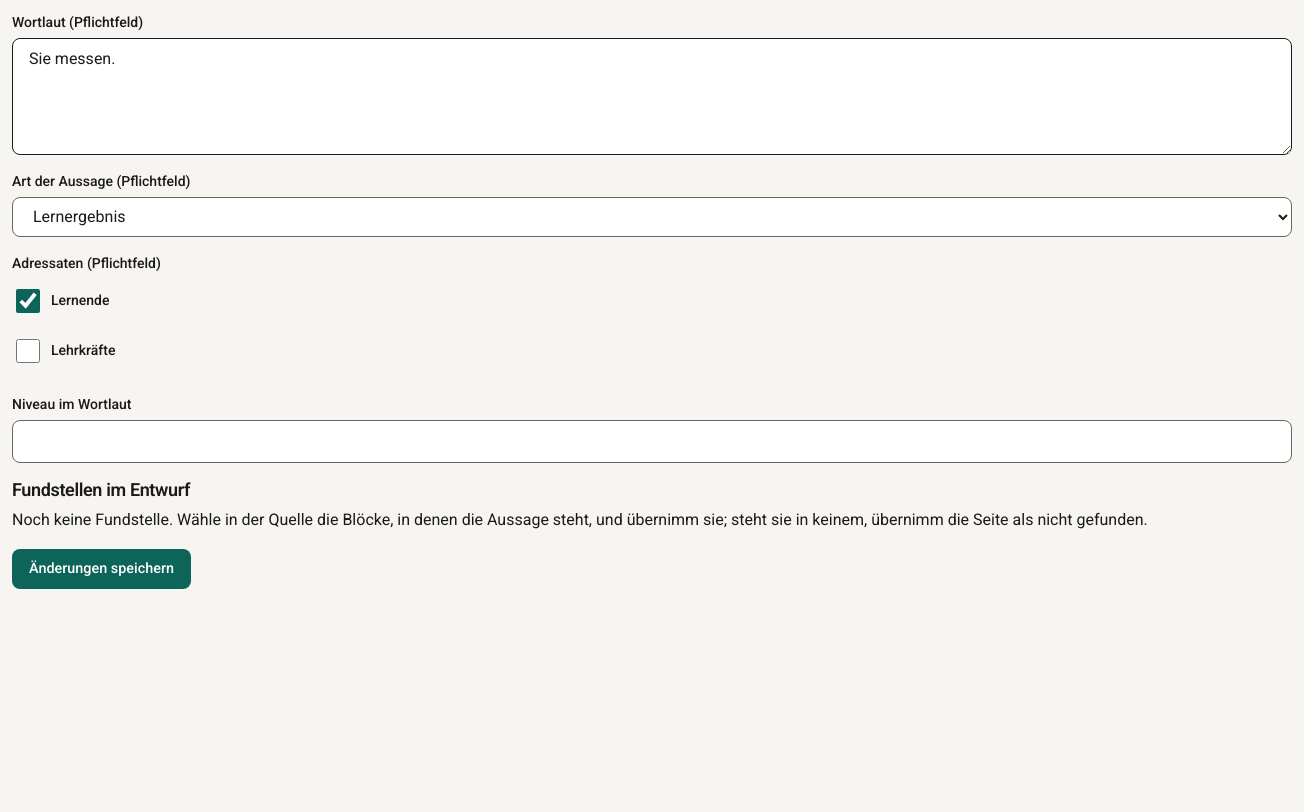
a row's editor › states a field's problem at the field and takes the keyboard there
Clear the text box labelled "Wortlaut (Pflichtfeld)" at (652, 96), box [12,38,1292,155]
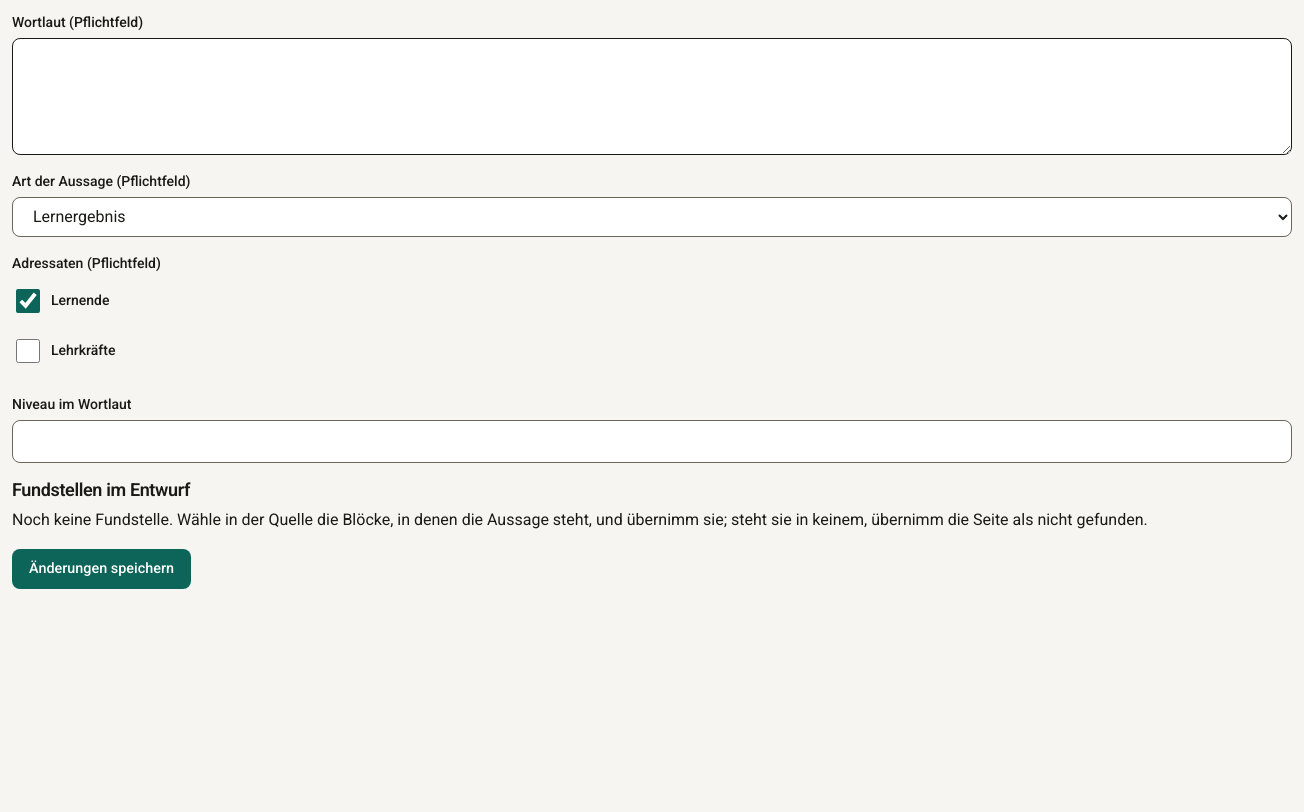
Submit the form
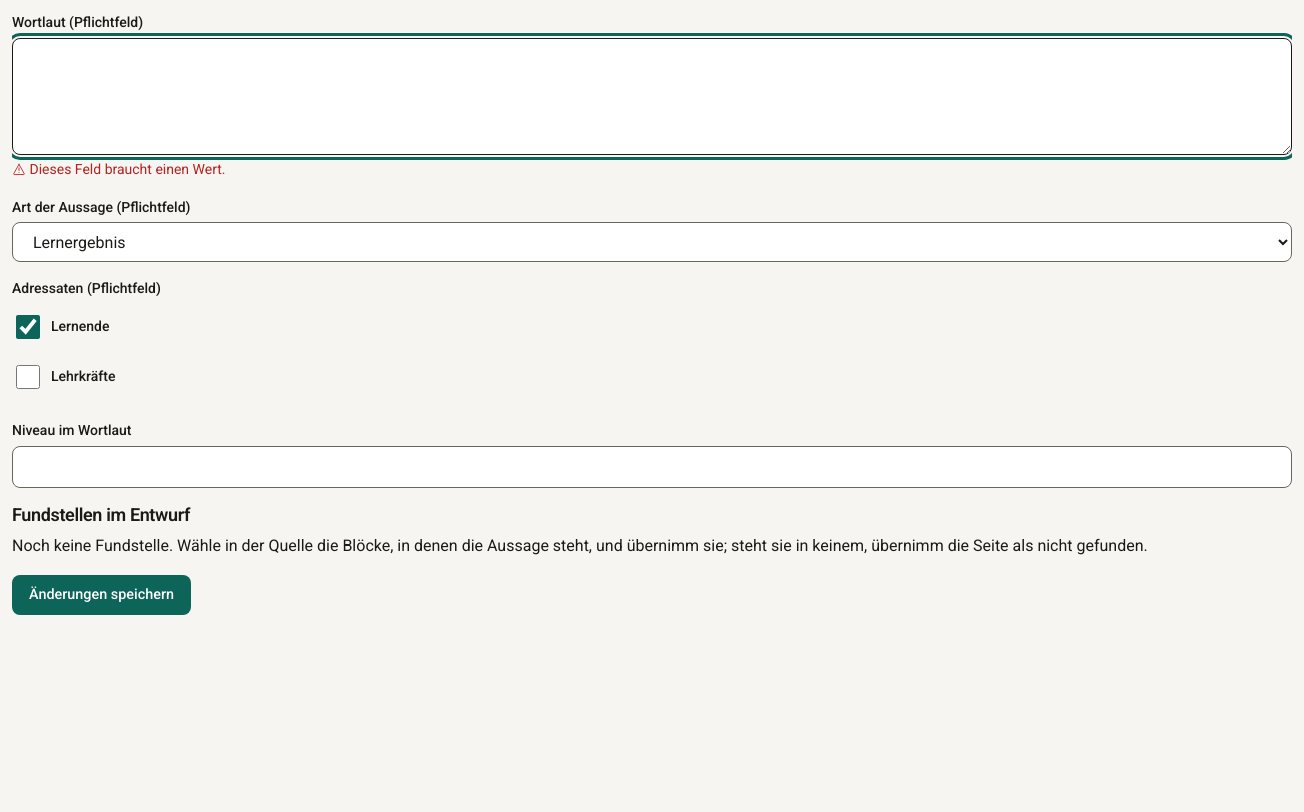
Result: the element with class "field__error" reads "Dieses Feld braucht einen Wert." at [26,161,226,177]
